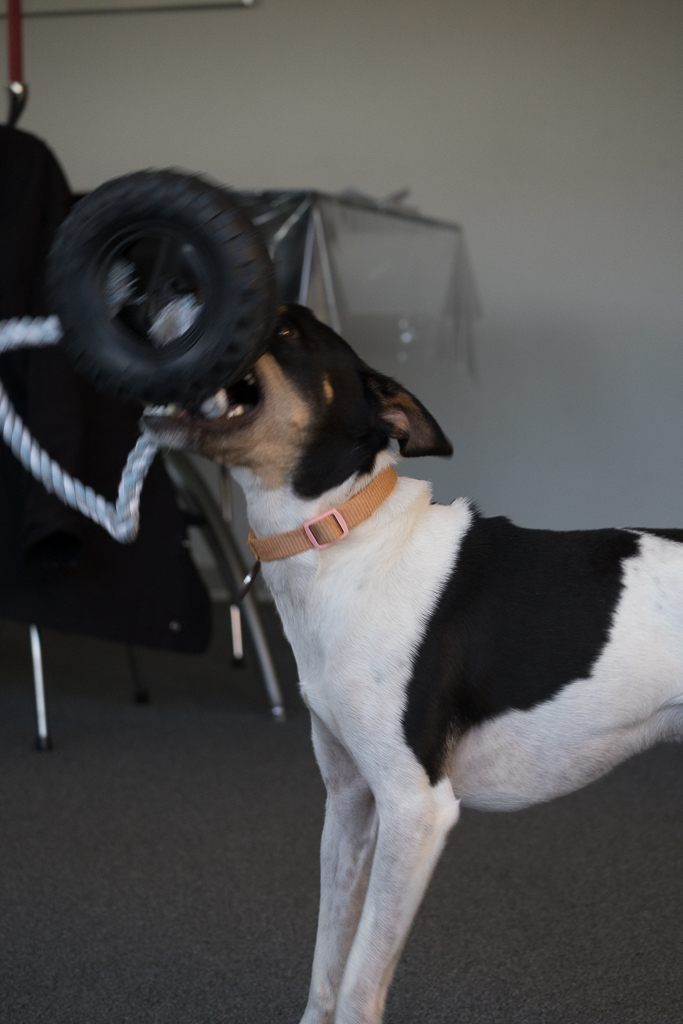Dog: (126, 278, 683, 1024)
